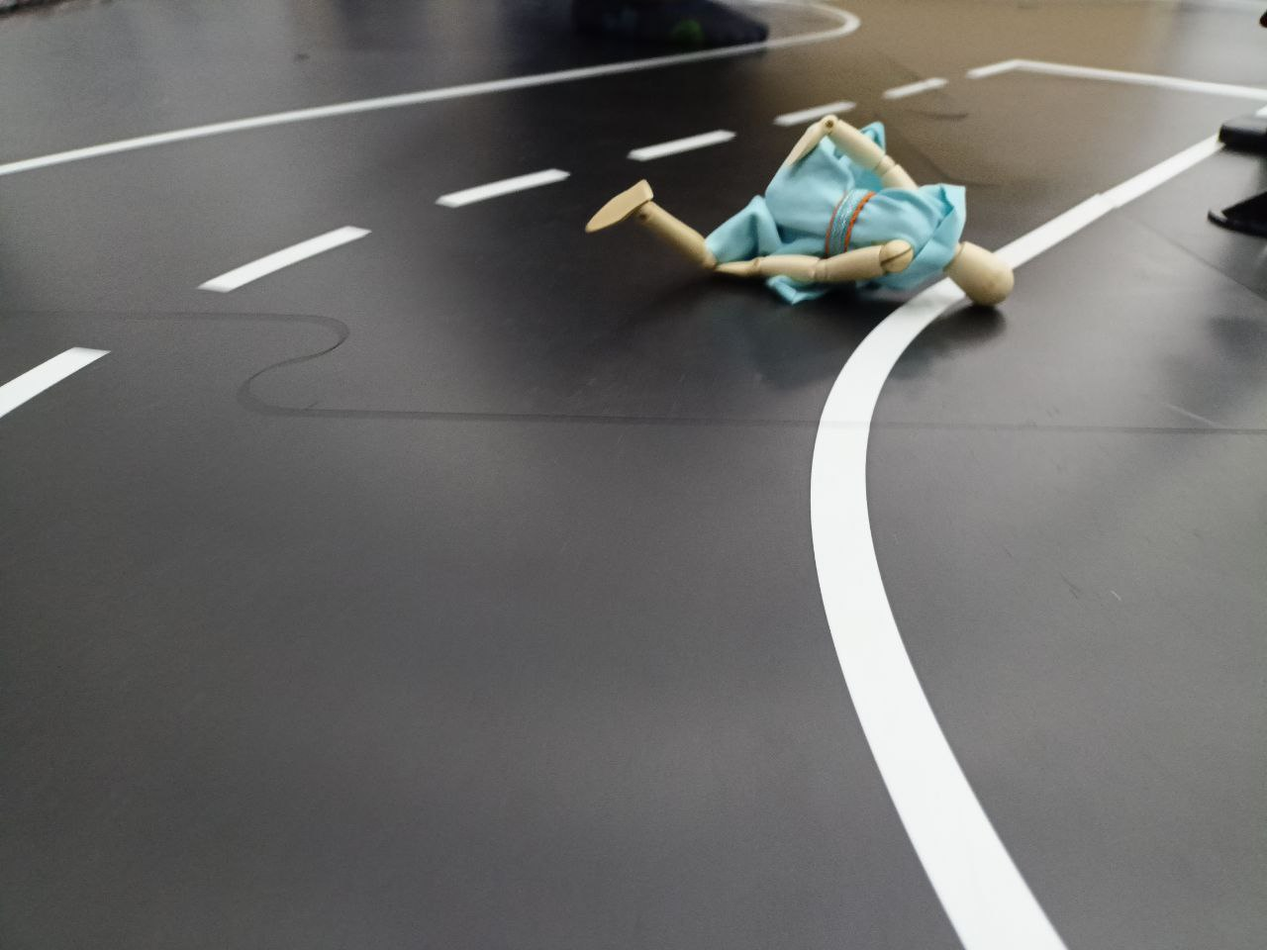Road works: (598, 107, 1026, 347)
